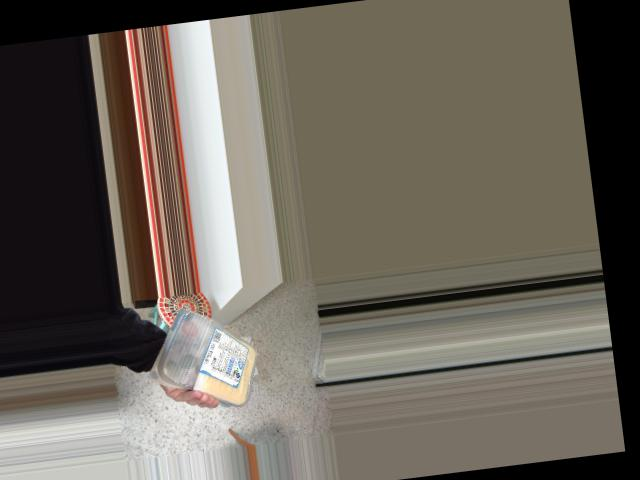cheese: (156, 302, 265, 401)
